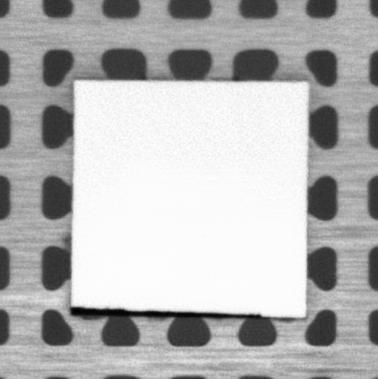DIE_BROKEN: (68, 305, 263, 320)
